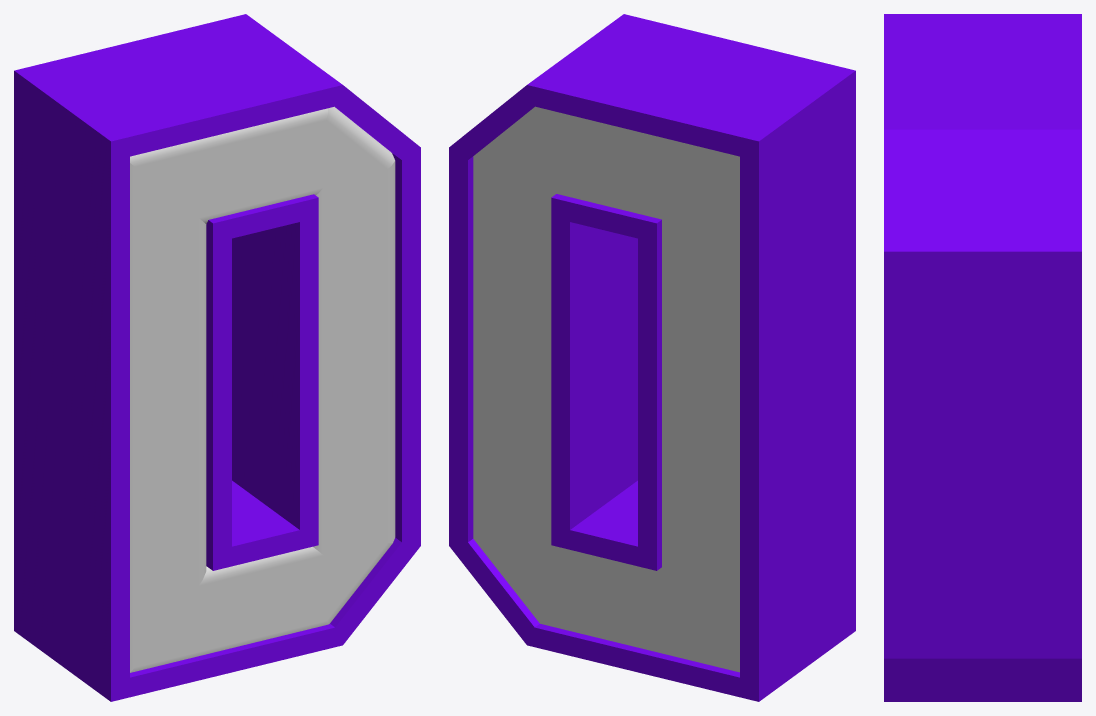
The picture shows the model from 3 angles, left to right: view 1: azimuth 30°, elevation 25°; view 2: azimuth 150°, elevation 25°; view 3: azimuth 270°, elevation 25°; orthographic projection. The views are drawn at different scales.
Parts seen in each view (by area): view 1: Extrusion Model.000, Extrusion Model; view 2: Extrusion Model.000, Extrusion Model; view 3: Extrusion Model.000.
Boxes of the visible parts, left/top/right/bottom form: Extrusion Model.000: left=14, top=14, right=420, bottom=701; Extrusion Model: left=130, top=106, right=395, bottom=672; Extrusion Model.000: left=449, top=14, right=855, bottom=701; Extrusion Model: left=473, top=106, right=739, bottom=672; Extrusion Model.000: left=884, top=14, right=1081, bottom=701.
Bounding box in the file's own units: 8.8 × 15.21 × 4.77.
